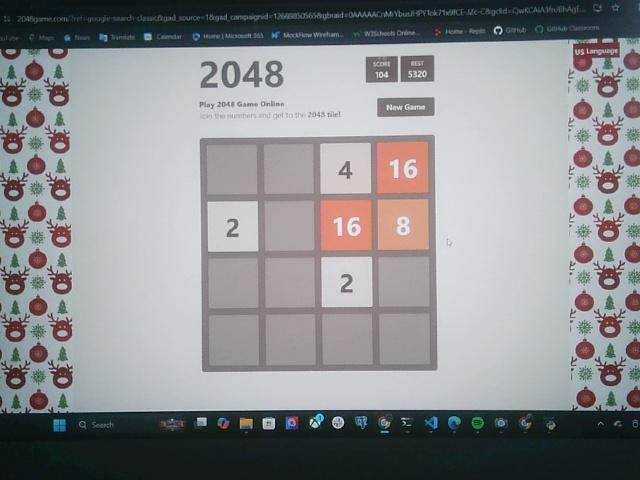best_score_box: (402, 55, 435, 83)
board: (199, 138, 436, 370)
button: (377, 97, 434, 117)
score_box: (366, 56, 399, 83)
tile: (207, 199, 260, 254), (319, 198, 374, 251), (321, 255, 374, 308), (378, 198, 431, 251), (377, 143, 431, 195), (320, 143, 371, 193)
